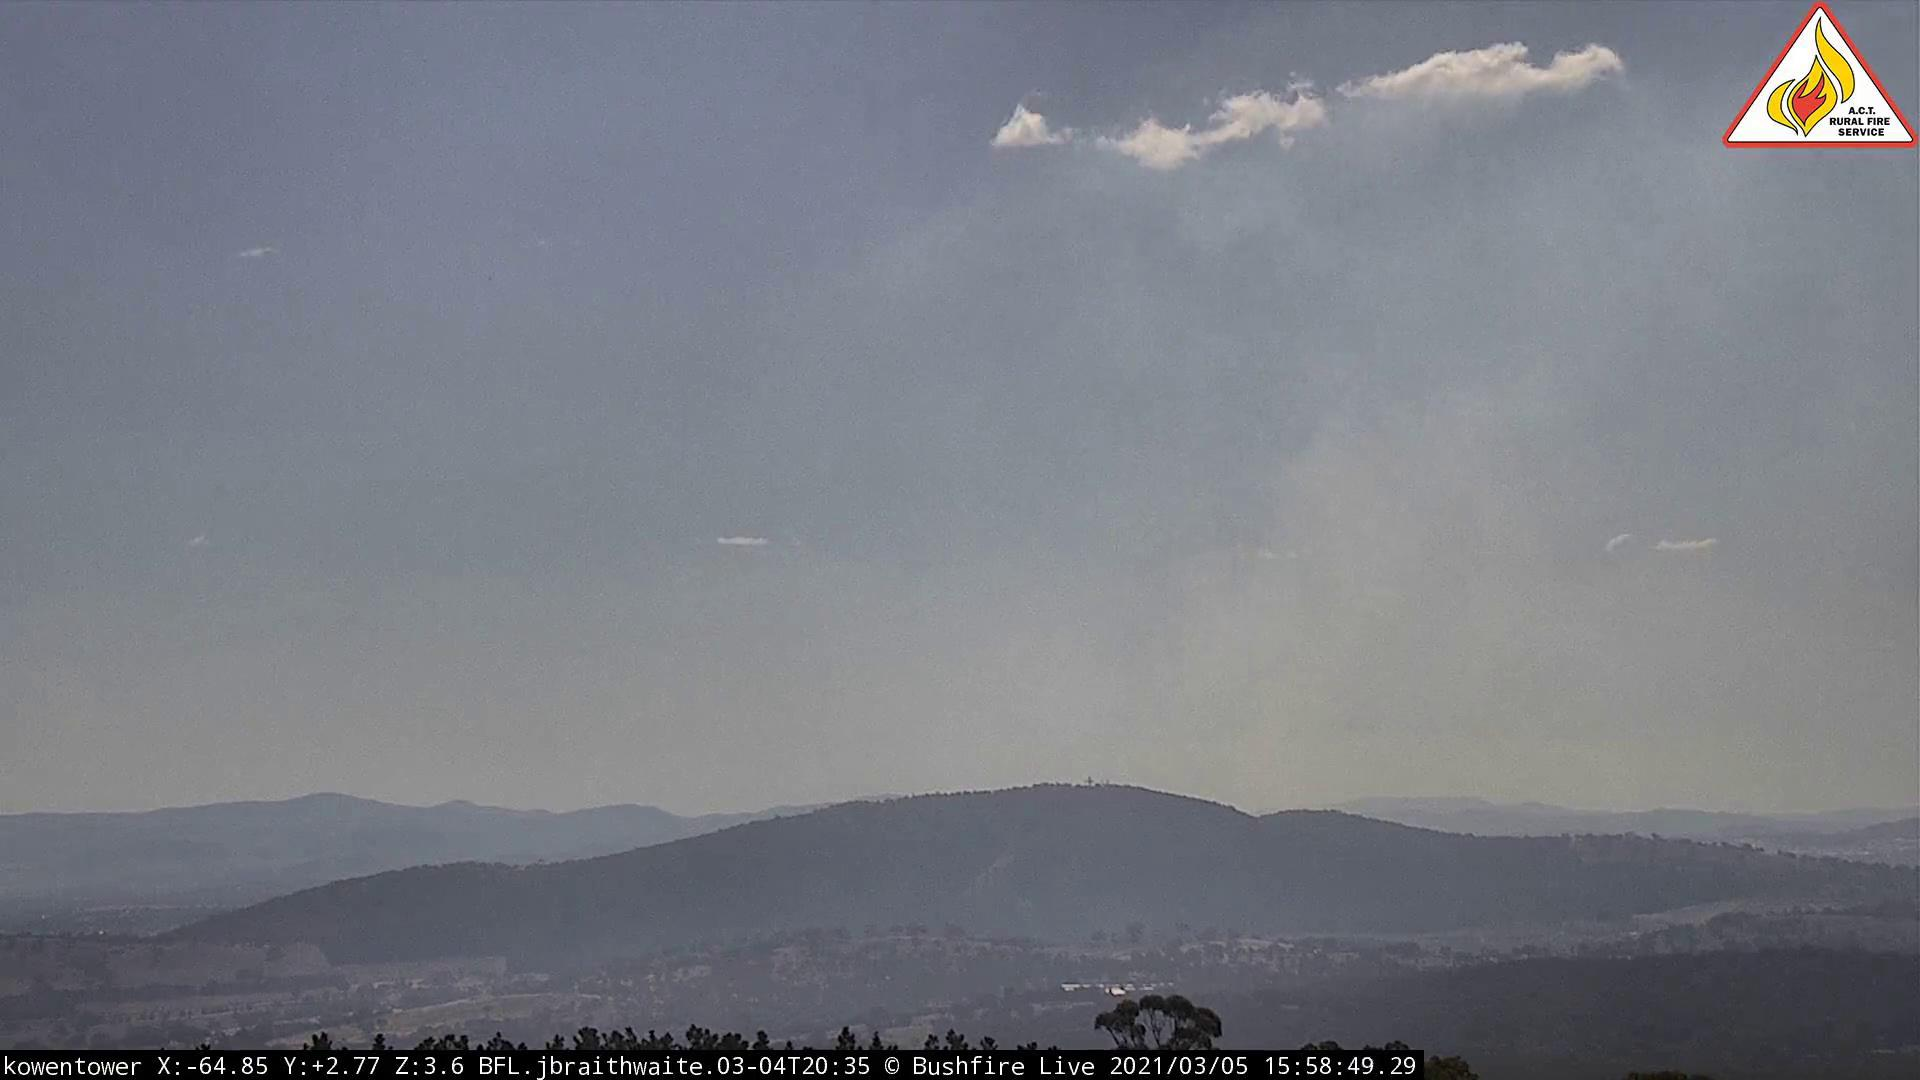Smoke: (857, 171, 1807, 822)
